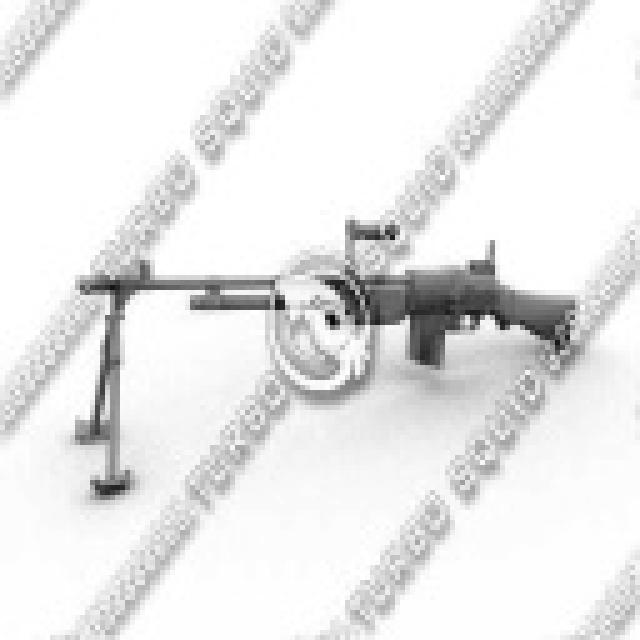Rifle: (0, 198, 614, 529)
